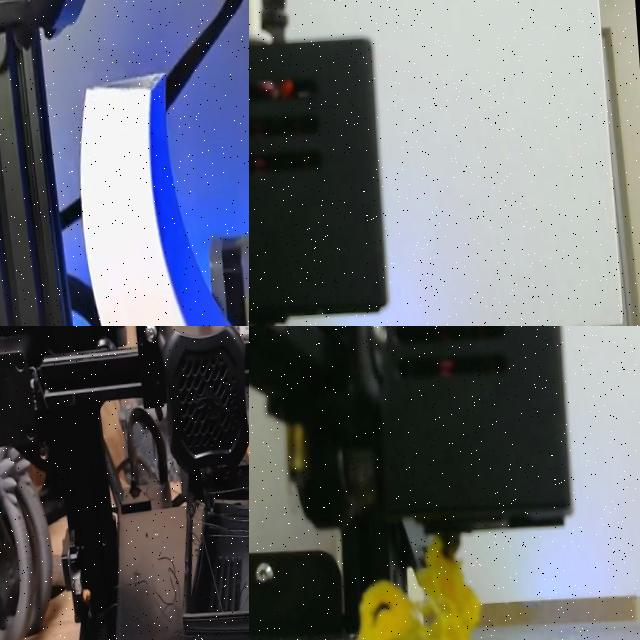spaghetti: (127, 480, 249, 640), (355, 537, 479, 640)
